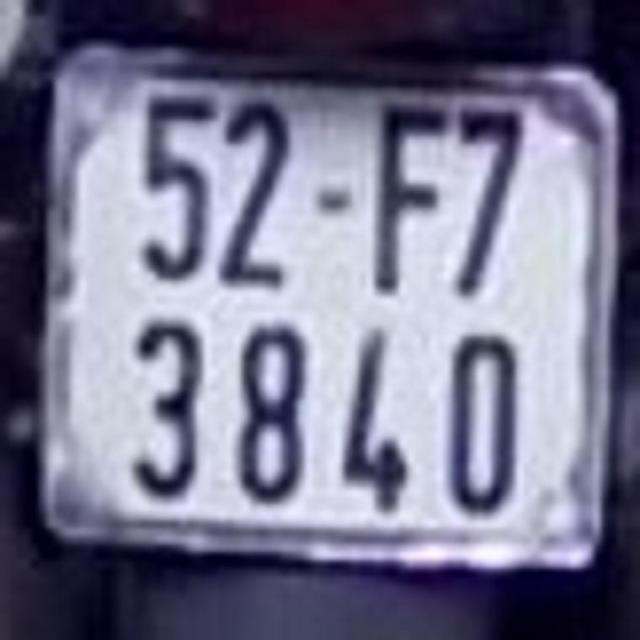0: (437, 312, 523, 516)
2: (222, 82, 293, 289)
3: (135, 298, 204, 491)
5: (136, 76, 214, 282)
7: (458, 76, 526, 298)
8: (230, 303, 308, 504), (338, 308, 411, 514)
F: (371, 82, 448, 296)
